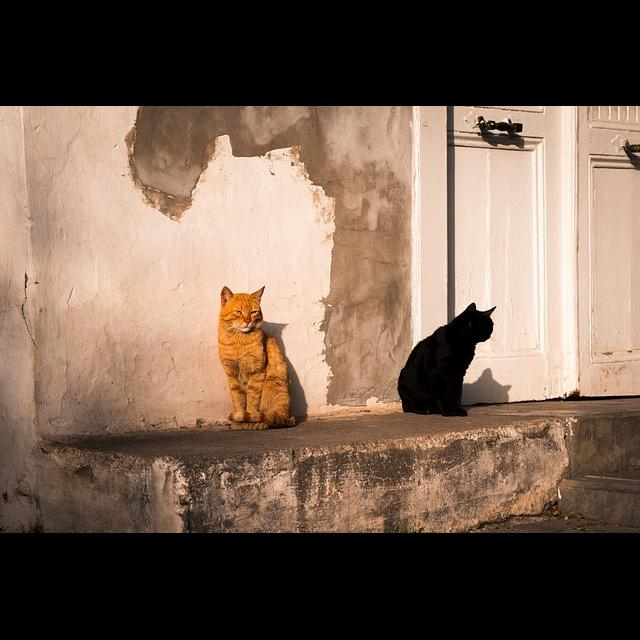animals: (216, 288, 307, 432), (396, 306, 495, 418)
